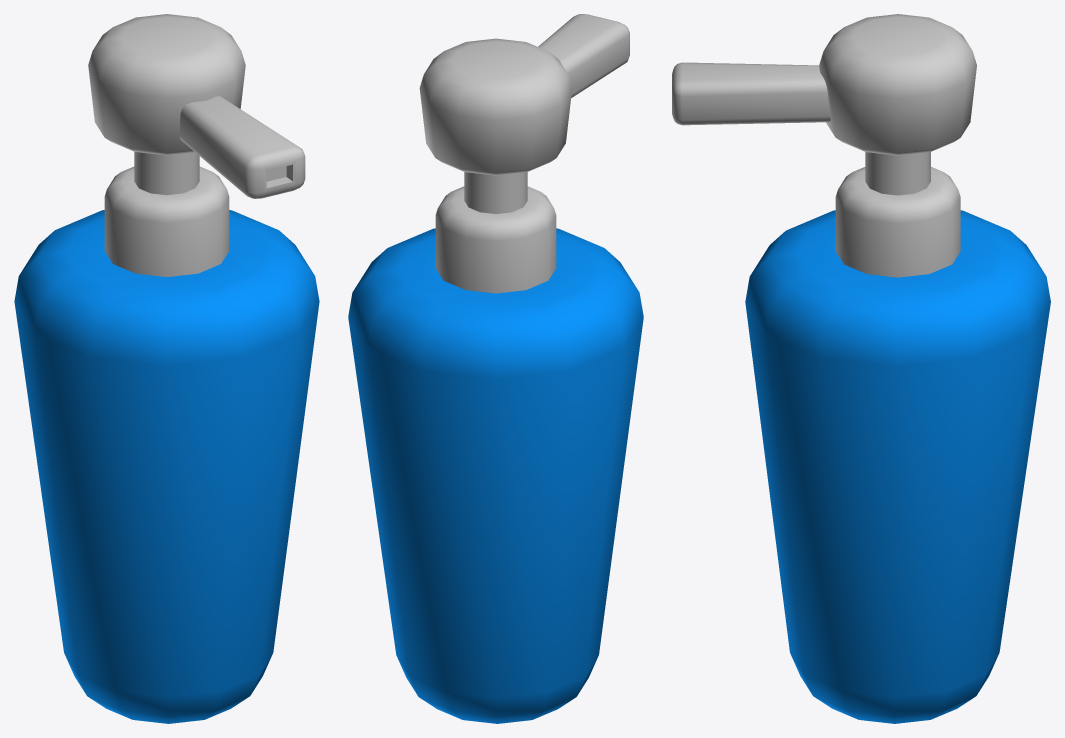
The model's file is Fluid Soap_2V.fbx.
3 views of the same model, side by side, from view 1: azimuth 30°, elevation 25°; view 2: azimuth 150°, elevation 25°; view 3: azimuth 270°, elevation 25° (orthographic). The views are drawn at different scales.
Visible parts, largest first — view 1: Fluid Soap_2V; view 2: Fluid Soap_2V; view 3: Fluid Soap_2V.
Part boxes in pixels (x1,y1,x2,y2): Fluid Soap_2V: (14, 14, 319, 723); Fluid Soap_2V: (348, 14, 643, 723); Fluid Soap_2V: (672, 14, 1050, 723).
Size of the model in its own units: 0.0706 by 0.1689 by 0.0875.
